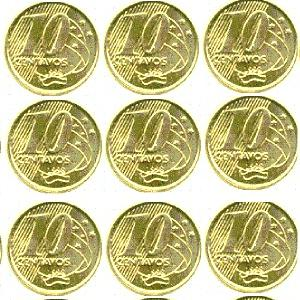10 cent: (106, 97, 201, 194), (2, 2, 98, 96), (205, 96, 300, 190), (205, 0, 300, 94), (8, 201, 101, 295), (7, 98, 101, 191), (109, 203, 202, 296), (107, 2, 200, 94), (207, 200, 298, 291)
